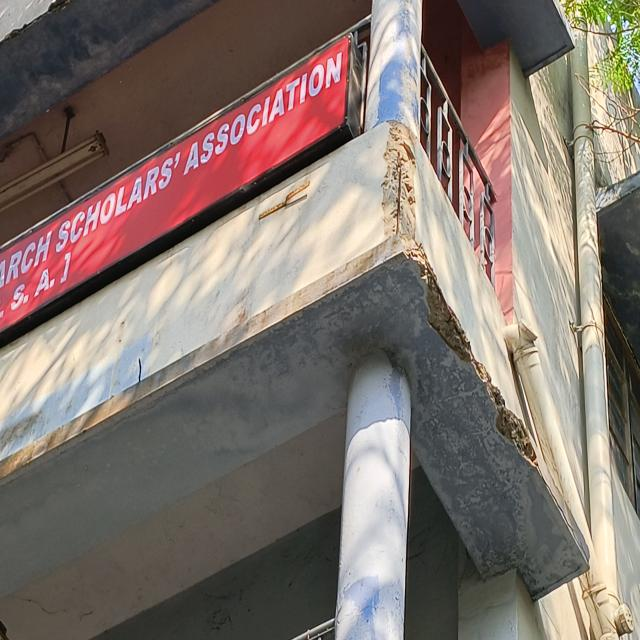peeling: (0, 255, 580, 639), (365, 0, 422, 135)
spalling: (382, 122, 538, 467), (0, 0, 75, 48)
stain_mould: (257, 177, 311, 223)
